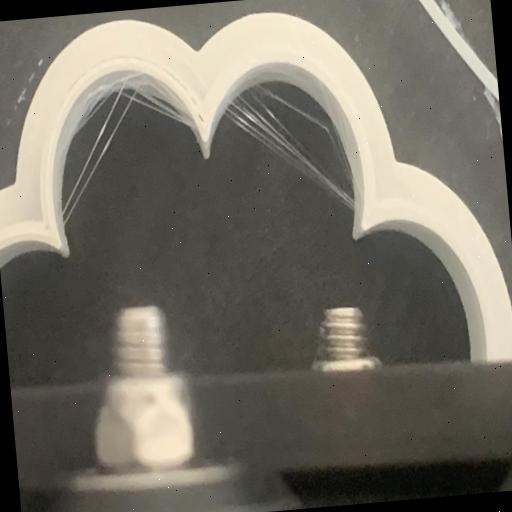stringing: (63, 80, 187, 232), (225, 87, 354, 214), (260, 85, 352, 189)
